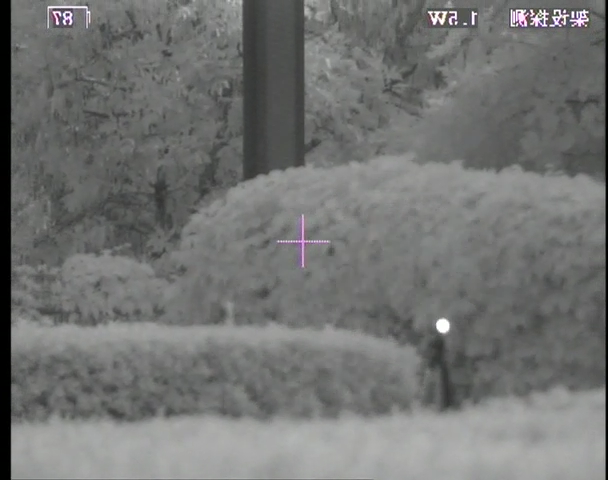my: (435, 316, 451, 333)
